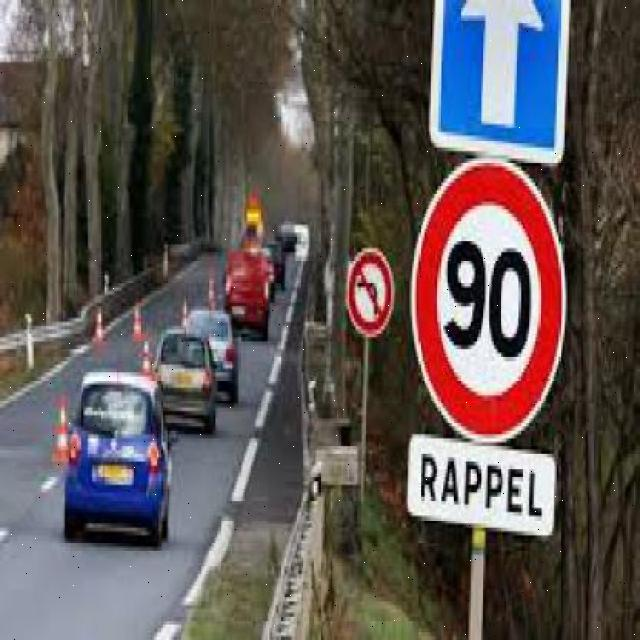speed limit 90: (408, 159, 570, 446)
